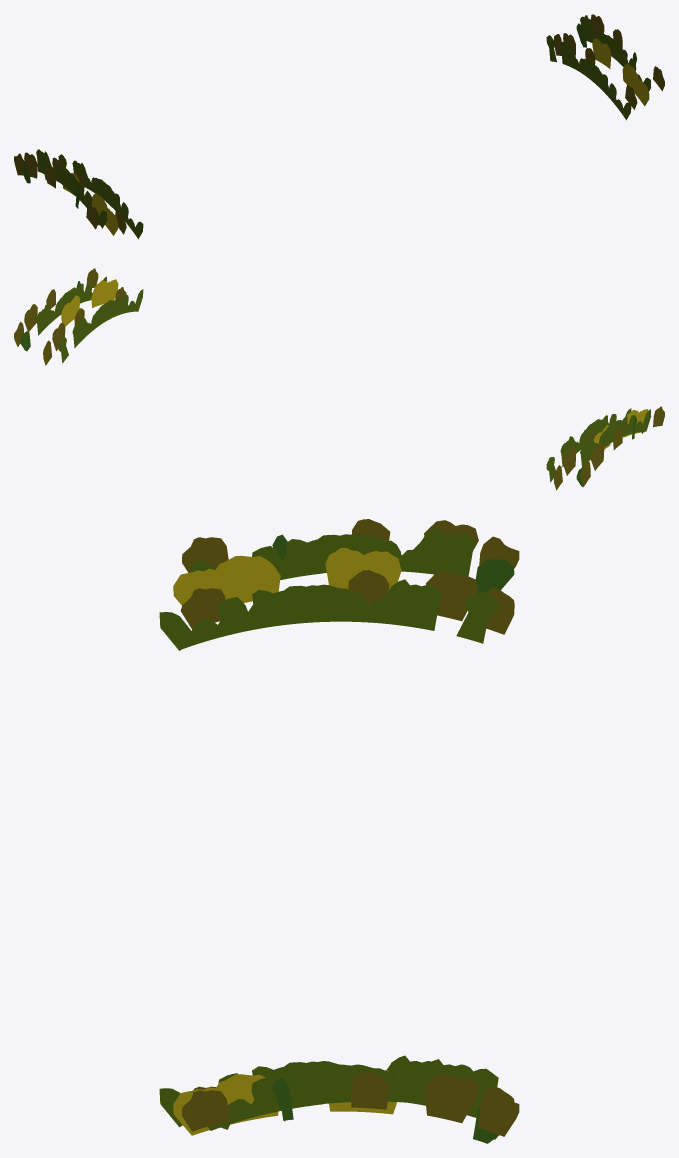
Rendered from tree_line_low.FBX.
3 views of the same model, one above another, from view 1: azimuth 30°, elevation 25°; view 2: azimuth 150°, elevation 25°; view 3: azimuth 270°, elevation 25° (orthographic). The views are drawn at different scales.
Visible parts, largest first — view 1: Plane010; view 2: Plane010; view 3: Plane010.
Part boxes in pixels (bbox=[...]): Plane010: bbox=[14, 14, 664, 239]; Plane010: bbox=[14, 268, 664, 490]; Plane010: bbox=[159, 519, 519, 1143].
Size of the model in its own units: 49360 by 3984 by 13578.
